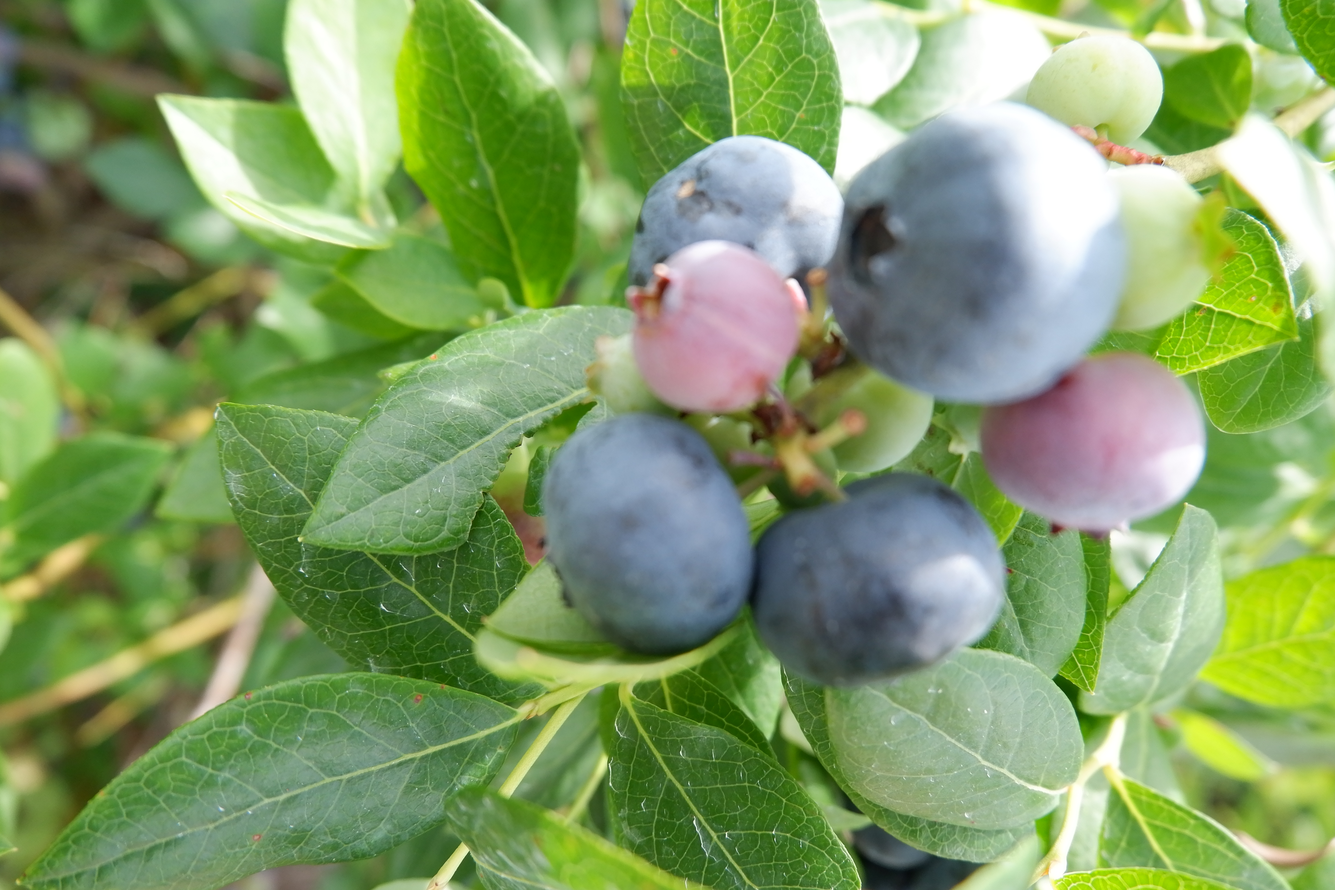Immature: (984, 352, 1202, 533), (635, 245, 801, 411), (1113, 165, 1237, 331), (800, 363, 936, 473), (1029, 35, 1159, 144), (590, 333, 673, 416), (681, 414, 771, 483), (765, 452, 838, 507)
Mature: (829, 108, 1122, 395), (757, 478, 1001, 687), (548, 413, 755, 652), (632, 140, 840, 279)
